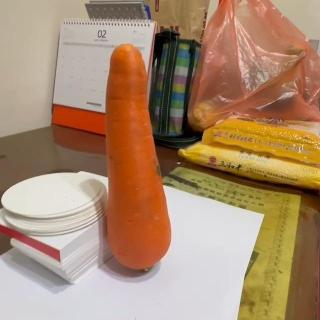carrot: (105, 42, 173, 272)
